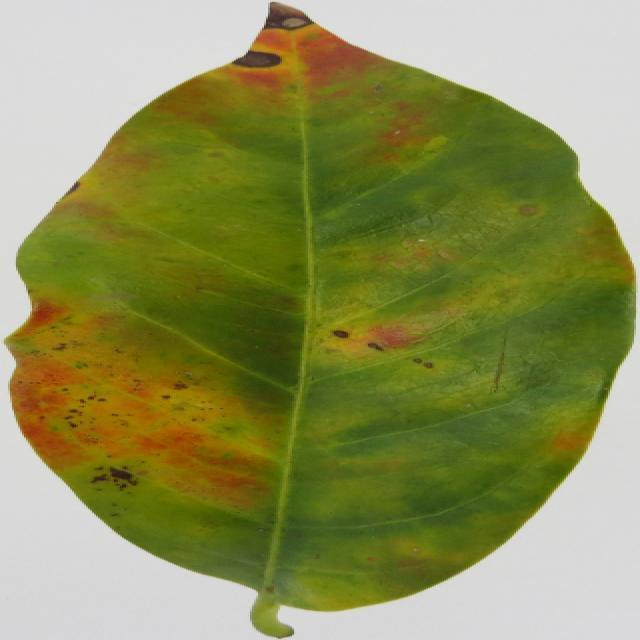DeficienciaNutricional-Fosforo: (8, 4, 631, 636)
